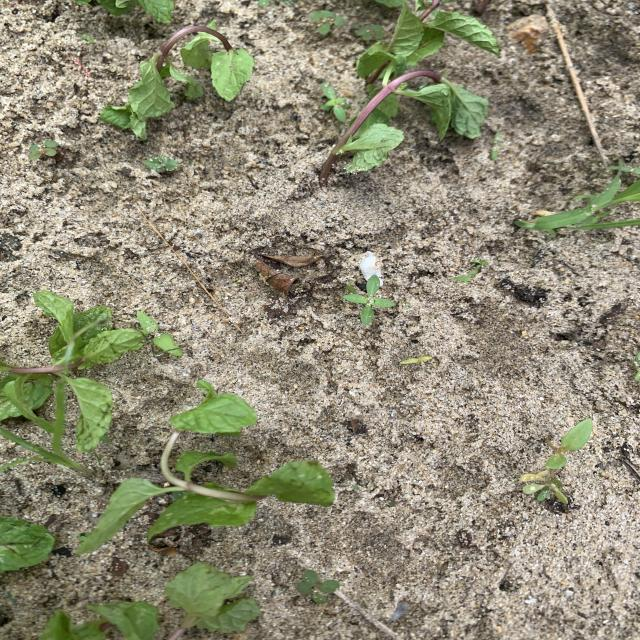crop: (83, 381, 335, 552), (0, 291, 144, 451), (319, 71, 488, 185), (100, 26, 254, 140), (356, 0, 499, 85), (166, 564, 260, 640), (40, 601, 159, 640)
weed: (516, 162, 640, 237), (0, 382, 90, 476), (342, 275, 395, 324), (545, 418, 593, 470), (520, 469, 570, 505), (297, 569, 339, 603), (307, 10, 352, 36), (320, 83, 349, 123), (26, 140, 65, 163), (453, 259, 489, 283), (350, 23, 385, 41), (400, 356, 432, 365), (80, 34, 96, 44)
